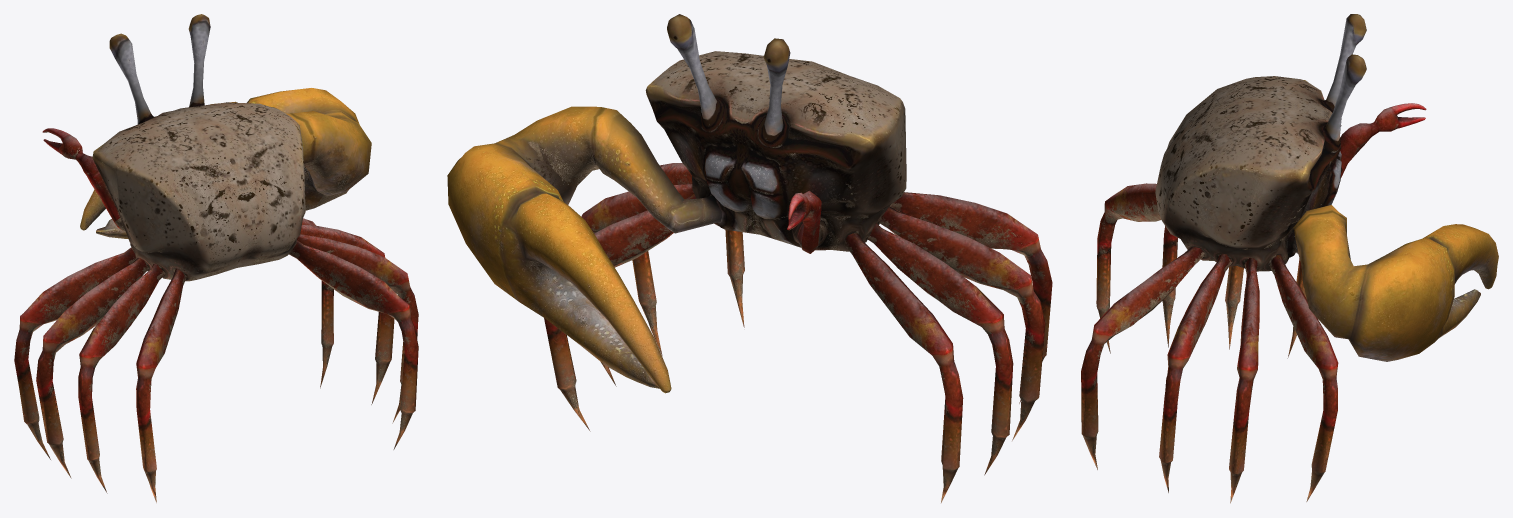
The model's file is crab.obj.
The picture shows the model from 3 angles, left to right: view 1: azimuth 30°, elevation 25°; view 2: azimuth 150°, elevation 25°; view 3: azimuth 270°, elevation 25°; orthographic projection. The views are drawn at different scales.
Visible parts, largest first — view 1: AssembledTris:polySurface17_Mesh.674; view 2: AssembledTris:polySurface17_Mesh.674; view 3: AssembledTris:polySurface17_Mesh.674.
Part boxes in pixels (<box>): AssembledTris:polySurface17_Mesh.674: <box>14,14,418,502</box>; AssembledTris:polySurface17_Mesh.674: <box>447,14,1052,502</box>; AssembledTris:polySurface17_Mesh.674: <box>1081,14,1498,503</box>.
Size of the model in its own units: 0.177 by 0.1644 by 0.1565.
Materials: 1 (1 with a texture image).
